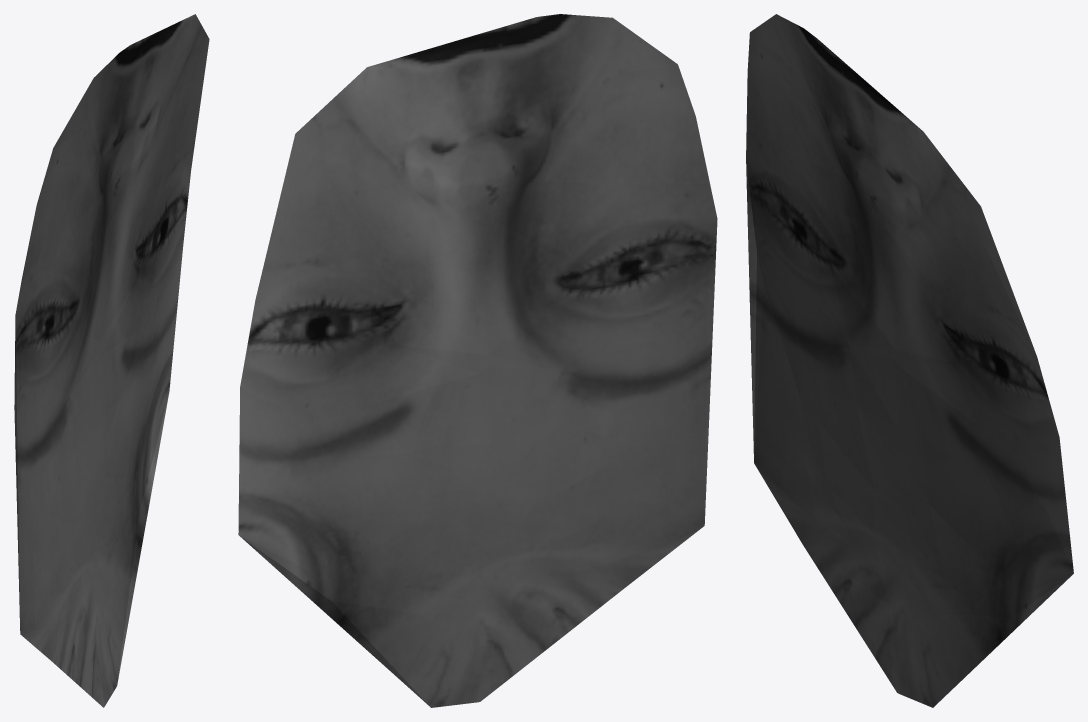
3 renders of one model, left to right at view 1: azimuth 30°, elevation 25°; view 2: azimuth 150°, elevation 25°; view 3: azimuth 270°, elevation 25°, orthographic. The views are drawn at different scales.
Visible parts, largest first — view 1: world; view 2: world; view 3: world.
Boxes of the visible parts, x1,y1,x2,y2 form: world: [14, 14, 209, 707]; world: [238, 14, 717, 707]; world: [746, 14, 1073, 707].
Size of the model in its own units: 0.1044 by 0.2075 by 0.0949.
1 material, 1 textured.
